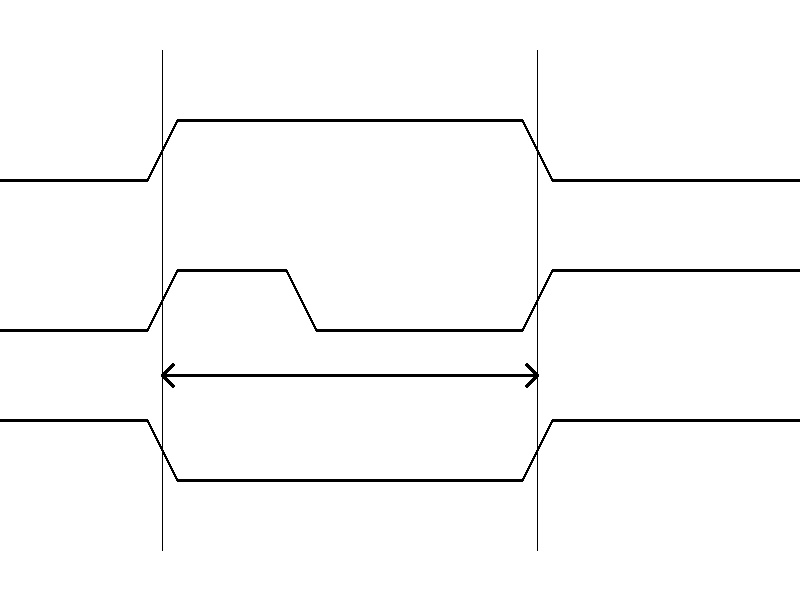double_arrow: (162, 360, 537, 390)
